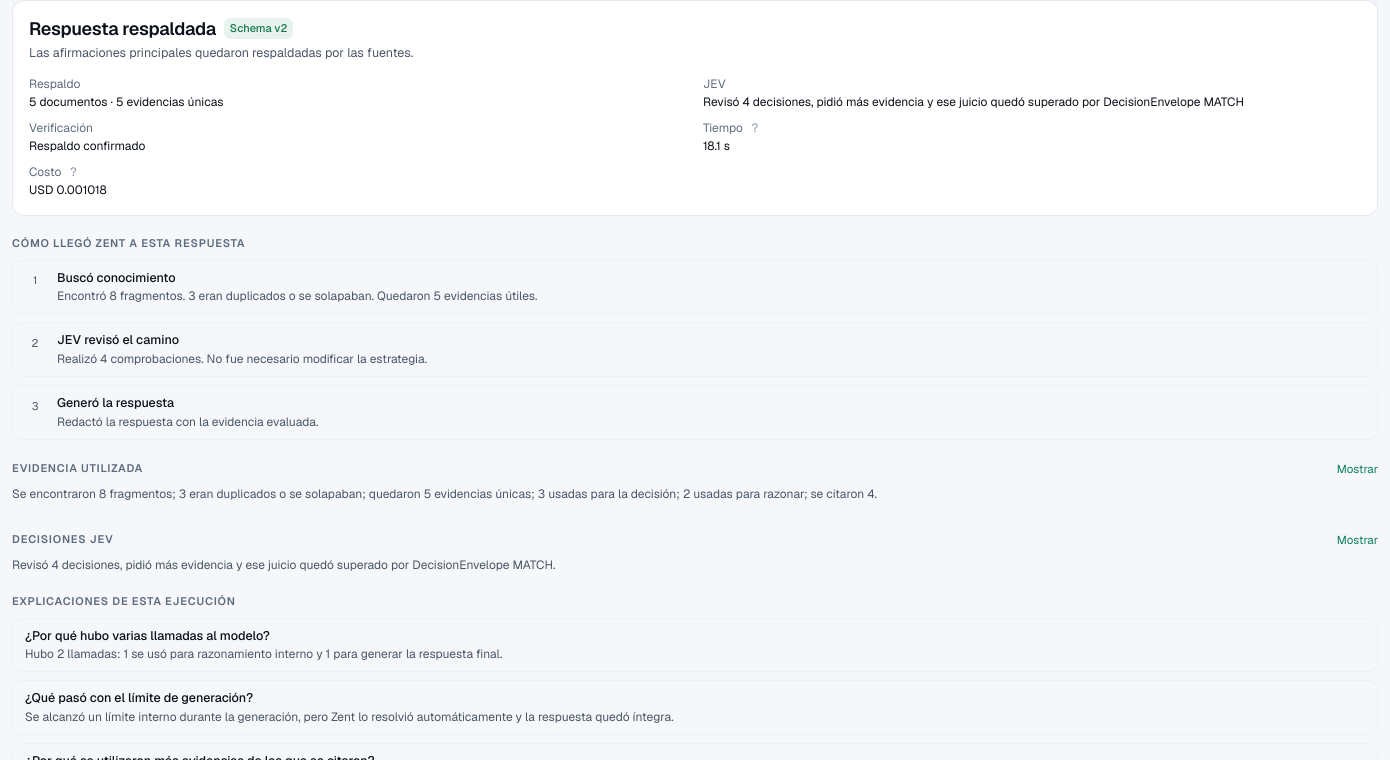
Test: TraceV2Story › muestra ejes de uso y juicios superados
This screenshot has width=1390, height=760.
Expected: the text "3 usadas para la decisión" is shown, [12, 486, 877, 502]
Click the button "Evidencia utilizada Mostrar": (78, 468) [12, 460, 1378, 477]
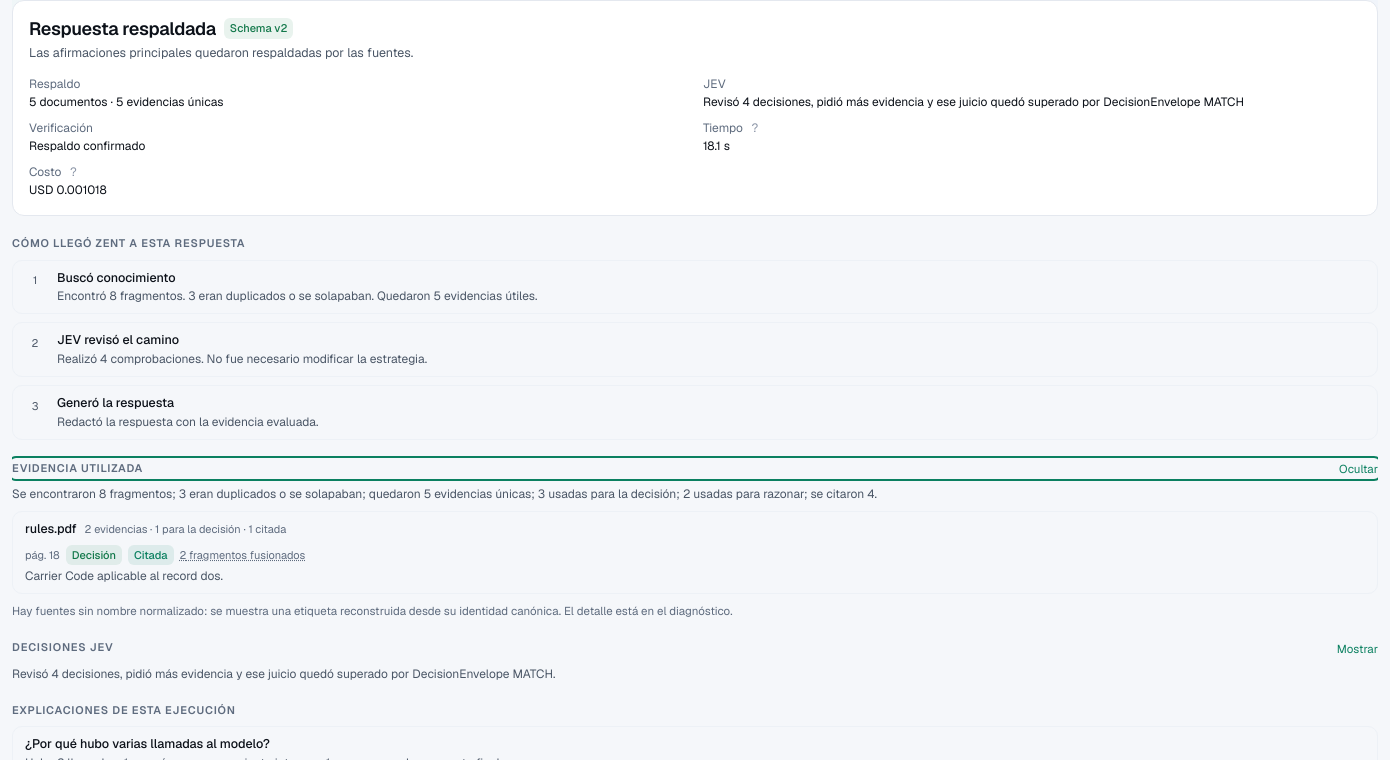
Expected: the text "Decisión" is shown, [66, 545, 122, 565]
Click the button "Decisiones JEV Mostrar": (63, 647) [12, 640, 1378, 657]
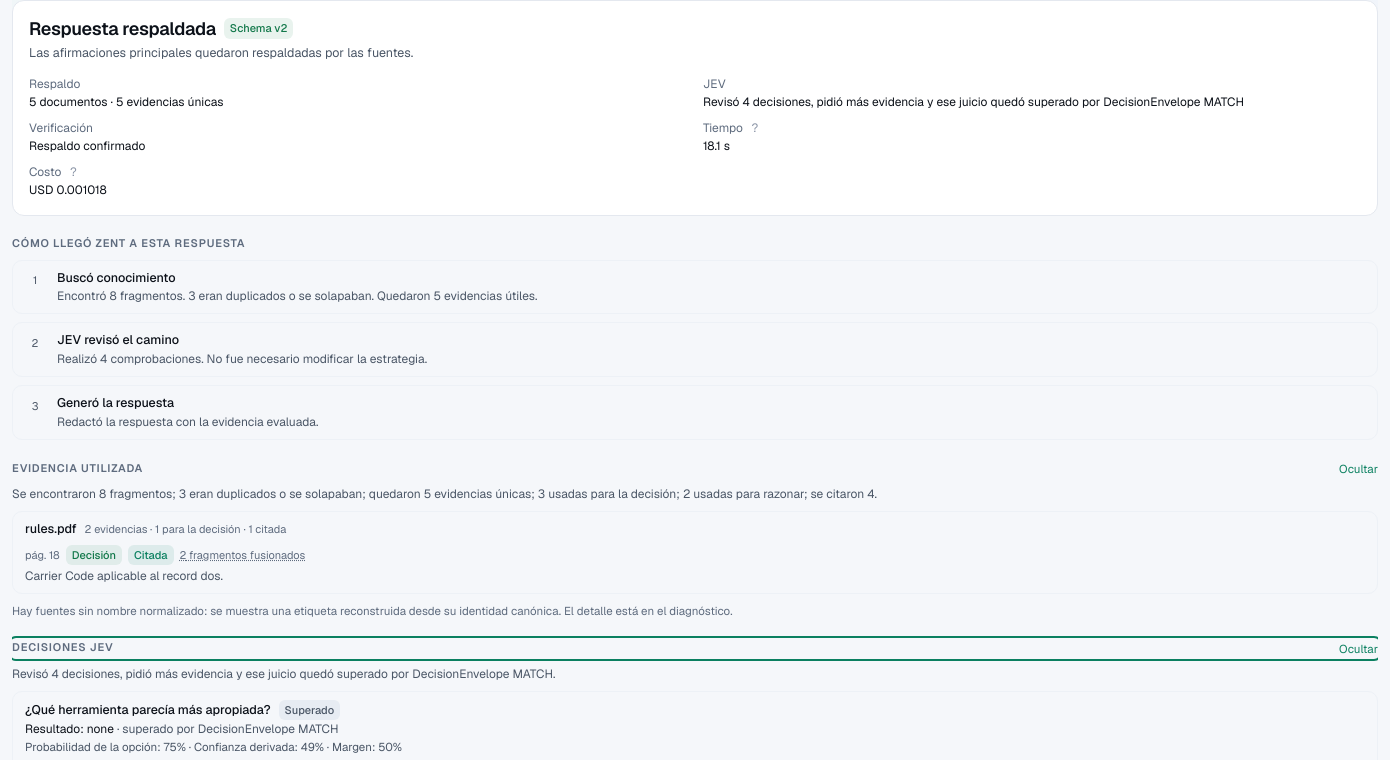
Expected: the text "superado por" is shown, [703, 94, 1244, 110]
Expected: the text "Superado" is shown, [279, 700, 340, 720]
